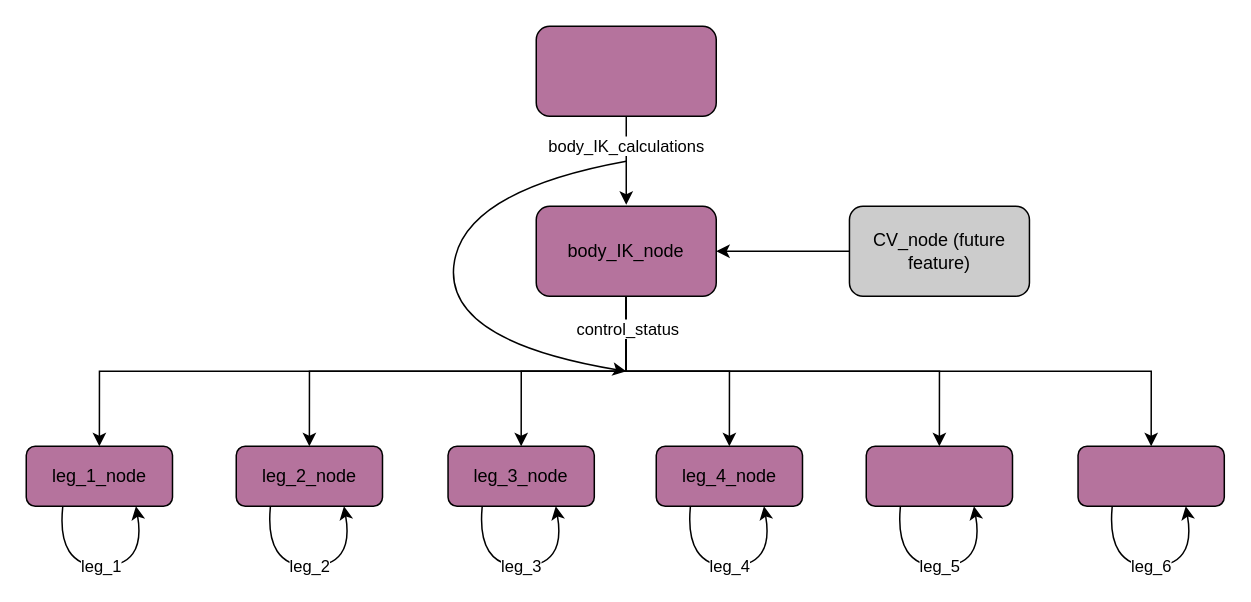
Some shapes in this 1251 by 602 pixel diagram are drawn without their labels. Here are the shapes that lost their labels. From the top down, the box of each, then its label:
(535, 25, 716, 116): keyboard_node
(865, 445, 1012, 506): leg_5_node
(1077, 445, 1224, 506): leg_6_node
